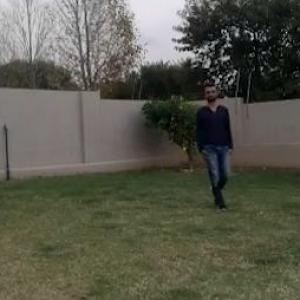follow: (201, 84, 231, 205)
